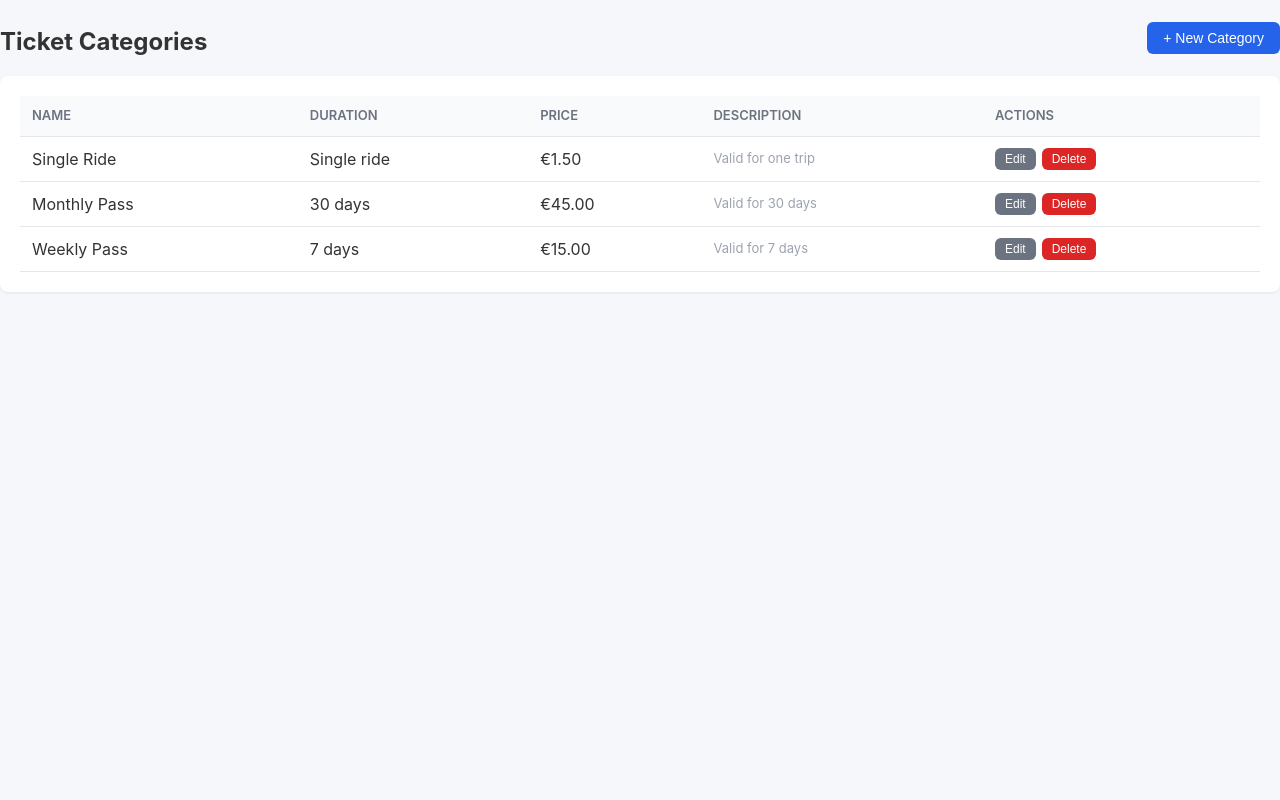
Test case: TicketCategories Page › opens edit modal with pre-filled values
Expected: the text "Monthly Pass" is shown, 20,181 -> 298,226
Click the button "Edit" in the row of "Monthly Pass" at (1015, 204), box 995,192 -> 1036,214
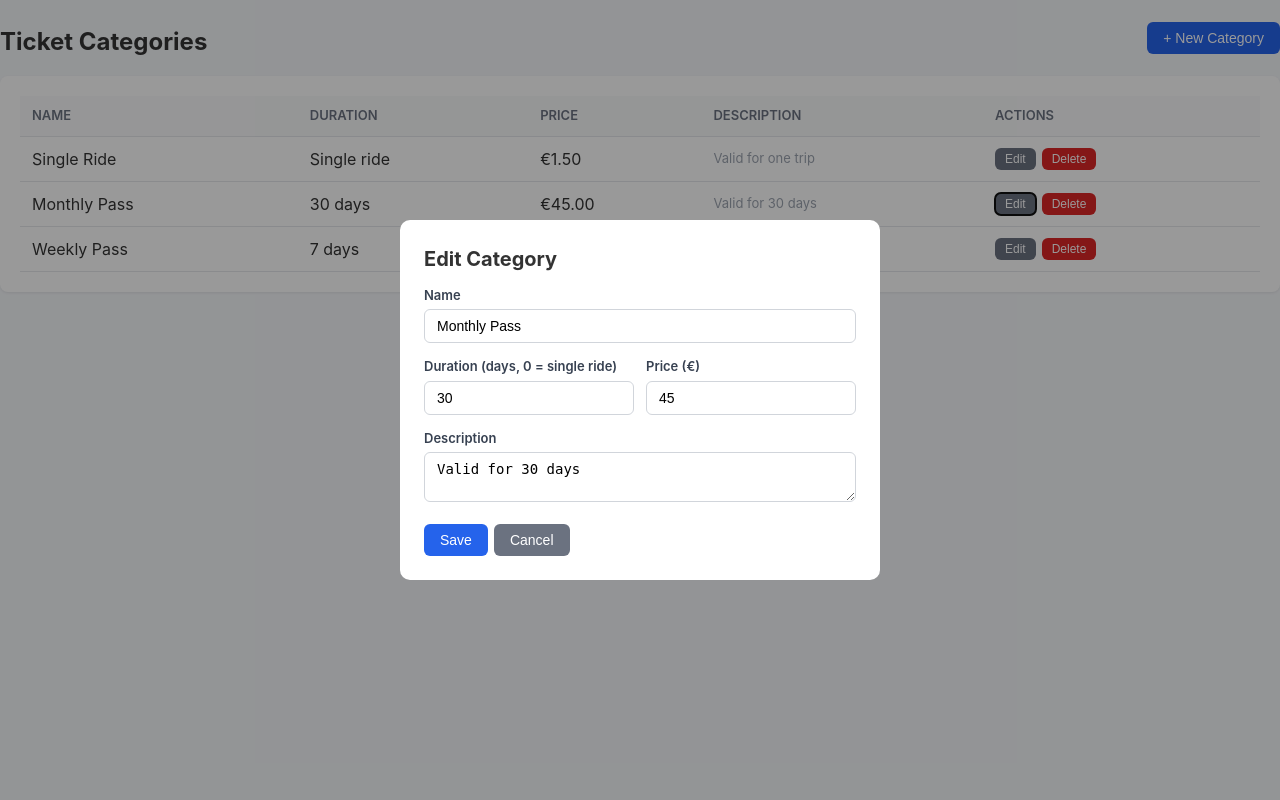
Expected: the heading "Edit Category" is shown, 424,247 -> 557,271
Expected: the field showing "Monthly Pass" is shown, 424,309 -> 856,343
Expected: the number field showing "30" below "Duration (days, 0 = single ride)" is shown, 424,381 -> 634,415
